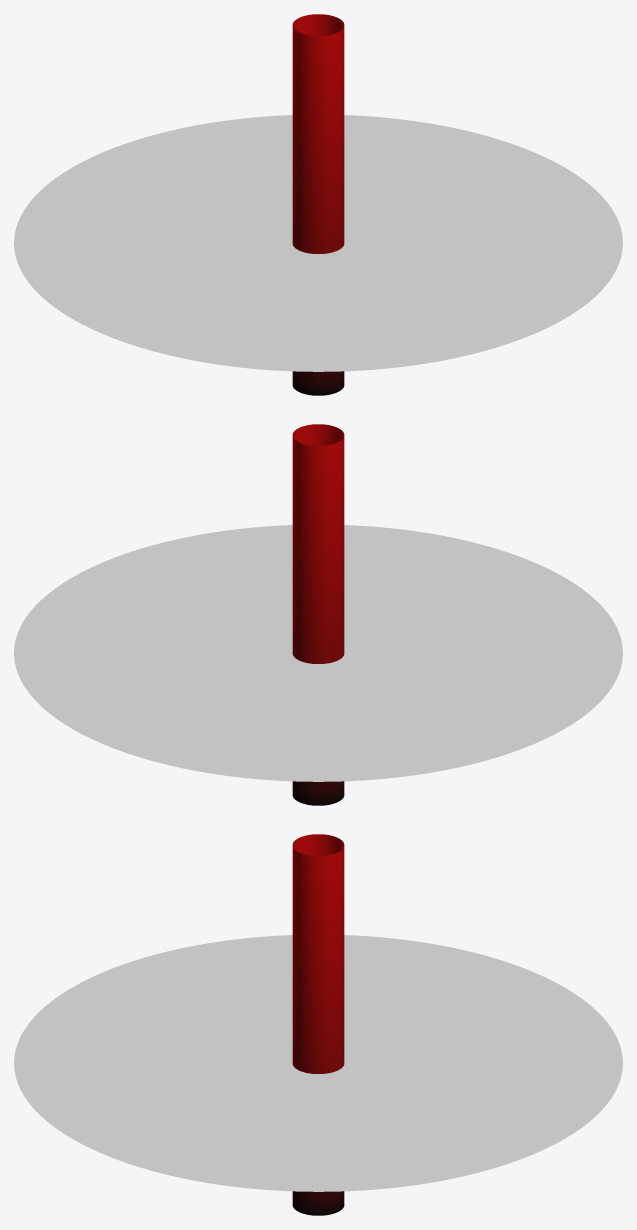
Rendered from DamageZone.fbx.
3 views of the same model, one above another, from view 1: azimuth 30°, elevation 25°; view 2: azimuth 150°, elevation 25°; view 3: azimuth 270°, elevation 25° (orthographic).
Visible parts, largest first — view 1: polySurface1, polySurface2; view 2: polySurface1, polySurface2; view 3: polySurface1, polySurface2.
Part boxes in pixels (box(x1,y1,x2,y2)): polySurface1: box(14, 115, 622, 371); polySurface2: box(292, 14, 344, 395); polySurface1: box(14, 525, 622, 781); polySurface2: box(292, 424, 344, 805); polySurface1: box(14, 935, 622, 1191); polySurface2: box(292, 834, 344, 1215).
Size of the model in its own units: 1175 by 765 by 1175.
